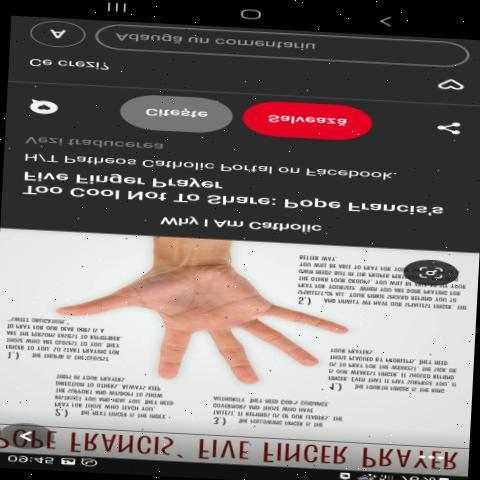Hands: (43, 239, 366, 403)
